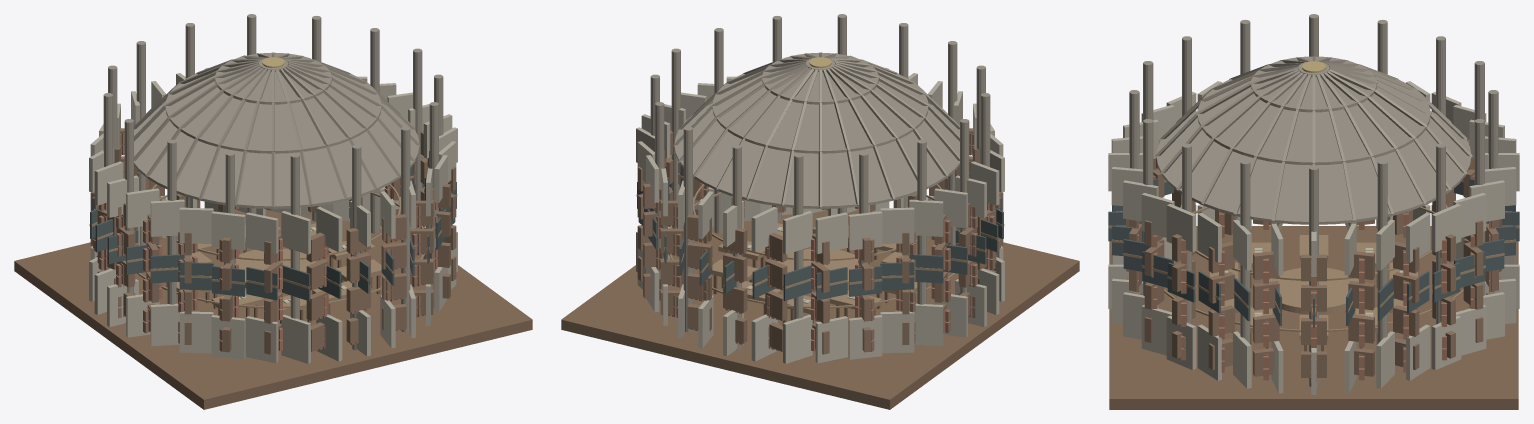
The model's file is marx_reading_room.glb.
The picture shows the model from 3 angles, left to right: view 1: azimuth 30°, elevation 25°; view 2: azimuth 150°, elevation 25°; view 3: azimuth 270°, elevation 25°; orthographic projection. The views are drawn at different scales.
Parts seen in each view (by area): view 1: geometry_0; view 2: geometry_0; view 3: geometry_0.
Boxes of the visible parts, left/top/right/bottom form: geometry_0: left=14, top=14, right=532, bottom=409; geometry_0: left=561, top=14, right=1079, bottom=409; geometry_0: left=1108, top=14, right=1519, bottom=409.
Bounding box in the file's own units: 46.83 × 32.31 × 46.83.
